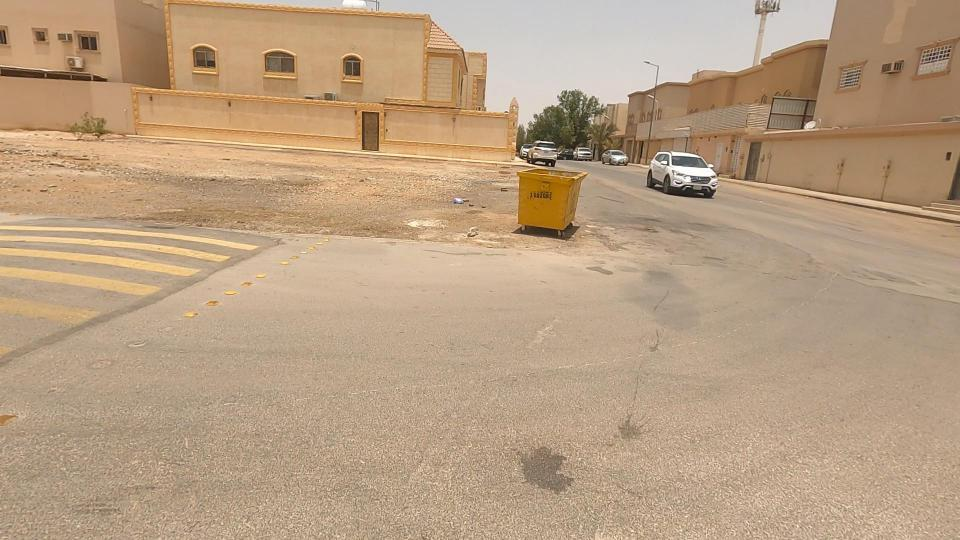GARBAGE: (422, 176, 496, 233)
